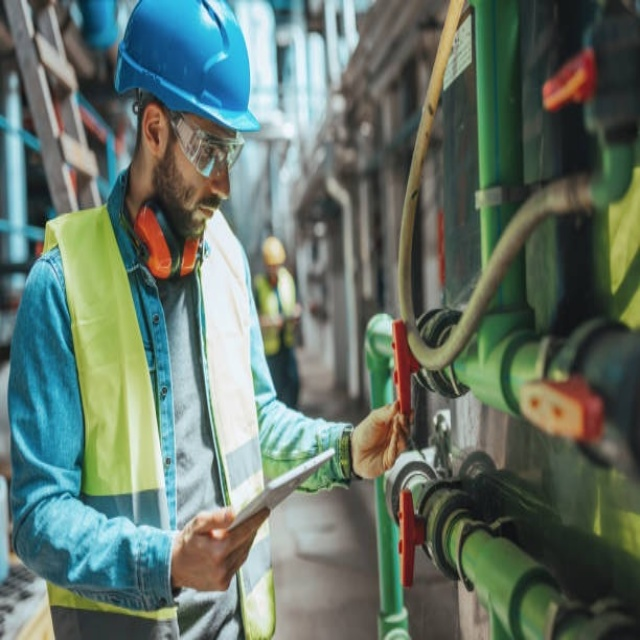Gafas: (159, 104, 248, 180)
Sin_guantes: (172, 505, 260, 593), (351, 399, 409, 480)
Sin_mascara: (183, 198, 224, 243)
